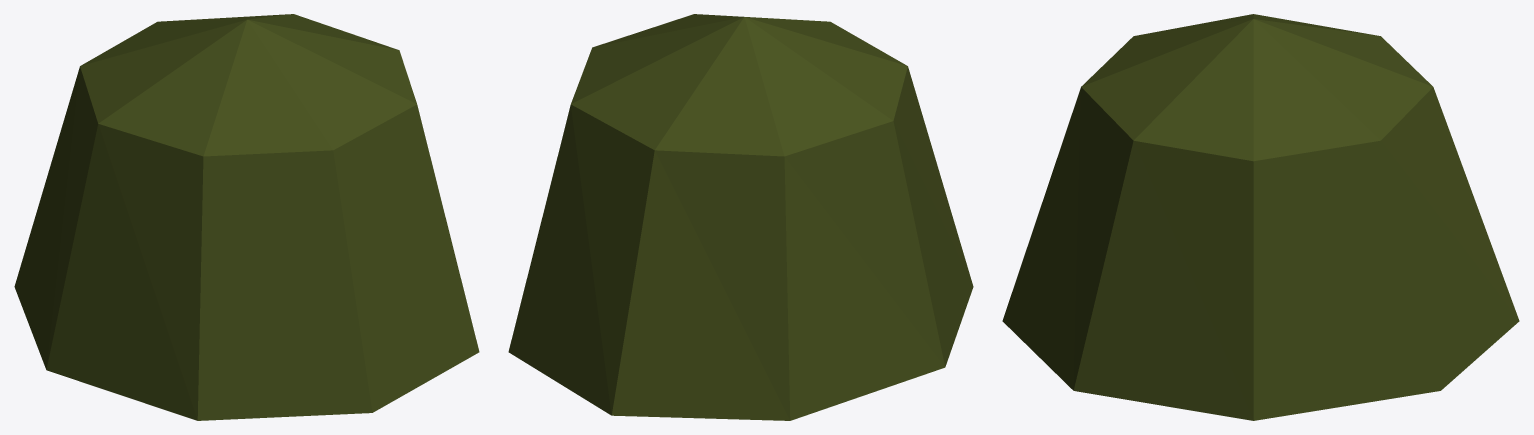
The model's file is bush.obj.
3 renders of one model, left to right at view 1: azimuth 30°, elevation 25°; view 2: azimuth 150°, elevation 25°; view 3: azimuth 270°, elevation 25°, orthographic.
Visible parts, largest first — view 1: Object Bush 2026-09-21_11-25-26; view 2: Object Bush 2026-09-21_11-25-26; view 3: Object Bush 2026-09-21_11-25-26.
Boxes of the visible parts, box(x1,y1,x2,y2) form: Object Bush 2026-09-21_11-25-26: box(14, 14, 479, 420); Object Bush 2026-09-21_11-25-26: box(508, 14, 973, 420); Object Bush 2026-09-21_11-25-26: box(1002, 14, 1519, 420).
Bounding box in the file's own units: 125 × 89 × 138.
